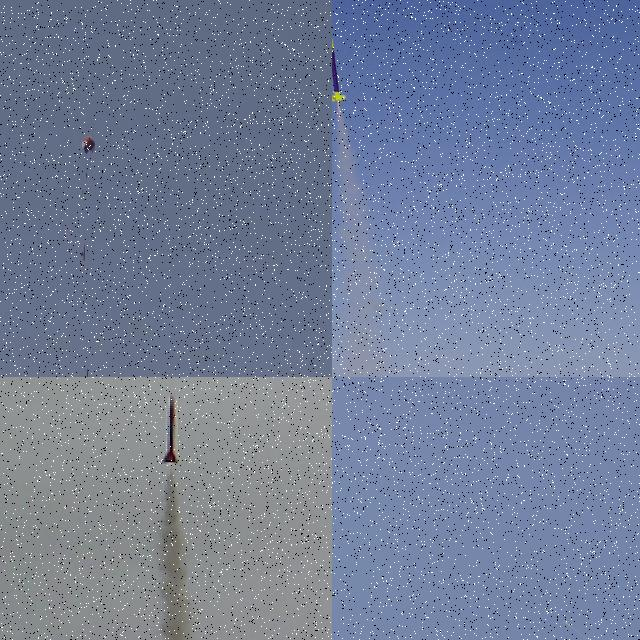Rocket: (160, 394, 179, 464), (332, 32, 346, 102), (564, 621, 572, 627), (86, 368, 89, 377)
